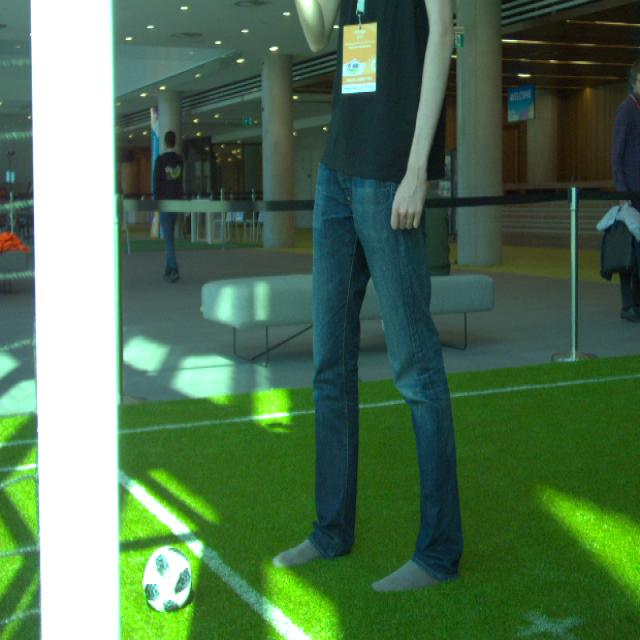ball: (144, 547, 194, 612)
goalpost: (29, 1, 117, 639)
